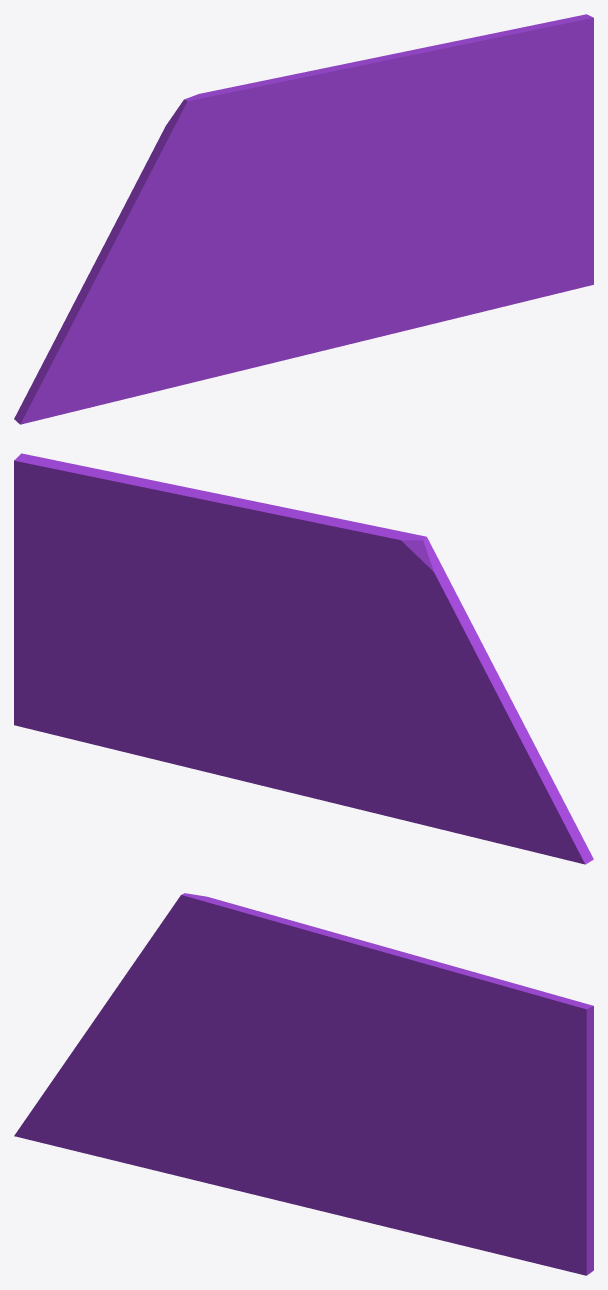
File: Glass_95_1_chunks.fbx
3 views of the same model, one above another, from view 1: azimuth 30°, elevation 25°; view 2: azimuth 150°, elevation 25°; view 3: azimuth 330°, elevation 25° (orthographic).
Parts seen in each view (by area): view 1: Glass_95_1_6, Glass_95_1_7, Glass_95_1_12, Glass_95_1_0, Glass_95_1_13, Glass_95_1_5, Glass_95_1_9, Glass_95_1_14, Glass_95_1_10, Glass_95_1_16, Glass_95_1_17, Glass_95_1_21 (+6 smaller); view 2: Glass_95_1_6, Glass_95_1_12, Glass_95_1_0, Glass_95_1_1, Glass_95_1_3, Glass_95_1_13, Glass_95_1_5, Glass_95_1_14, Glass_95_1_10, Glass_95_1_21, Glass_95_1_18, Glass_95_1_8 (+9 smaller); view 3: Glass_95_1_6, Glass_95_1_12, Glass_95_1_7, Glass_95_1_0, Glass_95_1_13, Glass_95_1_5, Glass_95_1_9, Glass_95_1_14, Glass_95_1_10, Glass_95_1_16, Glass_95_1_17, Glass_95_1_21 (+5 smaller).
Boxes of the visible parts, <box> form: Glass_95_1_6: <box>399,150,593,319</box>; Glass_95_1_7: <box>77,146,229,315</box>; Glass_95_1_12: <box>406,32,593,175</box>; Glass_95_1_0: <box>14,295,224,424</box>; Glass_95_1_13: <box>255,64,416,187</box>; Glass_95_1_5: <box>251,172,429,286</box>; Glass_95_1_9: <box>229,114,321,271</box>; Glass_95_1_14: <box>191,307,345,382</box>; Glass_95_1_10: <box>168,82,284,156</box>; Glass_95_1_16: <box>336,275,450,344</box>; Glass_95_1_17: <box>227,254,366,324</box>; Glass_95_1_21: <box>471,14,593,87</box>; Glass_95_1_6: <box>14,592,201,760</box>; Glass_95_1_12: <box>14,469,204,618</box>; Glass_95_1_0: <box>378,733,593,864</box>; Glass_95_1_1: <box>286,590,422,777</box>; Glass_95_1_3: <box>382,610,551,786</box>; Glass_95_1_13: <box>195,503,345,629</box>; Glass_95_1_5: <box>176,615,347,728</box>; Glass_95_1_14: <box>249,741,404,820</box>; Glass_95_1_10: <box>331,520,445,593</box>; Glass_95_1_21: <box>14,453,135,527</box>; Glass_95_1_18: <box>128,476,265,530</box>; Glass_95_1_8: <box>378,568,473,646</box>; Glass_95_1_6: <box>393,1084,593,1275</box>; Glass_95_1_12: <box>399,1014,593,1141</box>; Glass_95_1_7: <box>70,934,222,1084</box>; Glass_95_1_0: <box>14,1075,217,1177</box>; Glass_95_1_13: <box>262,912,409,1075</box>; Glass_95_1_5: <box>244,1046,422,1140</box>; Glass_95_1_9: <box>222,955,314,1092</box>; Glass_95_1_14: <box>185,1137,338,1215</box>; Glass_95_1_10: <box>162,893,277,970</box>; Glass_95_1_16: <box>329,1160,443,1240</box>; Glass_95_1_17: <box>221,1111,359,1172</box>; Glass_95_1_21: <box>464,973,593,1027</box>.
Size of the model in its own units: 1220 by 574 by 27.2.
